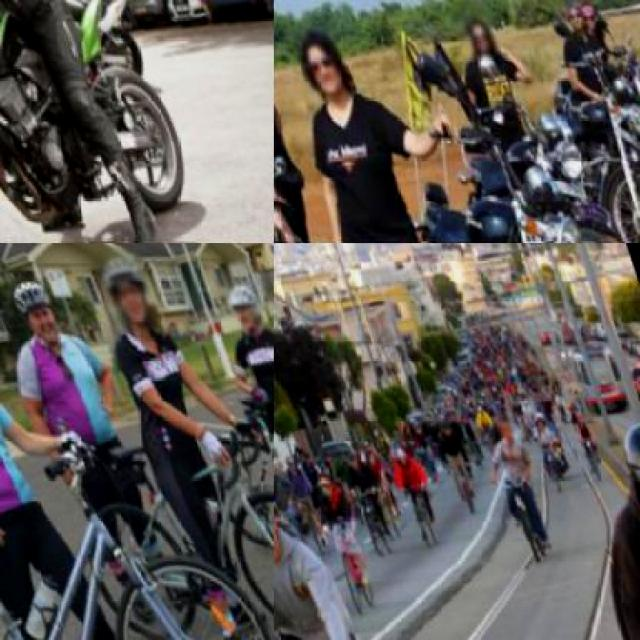With Helmet: (86, 243, 165, 337), (0, 269, 74, 357), (606, 397, 639, 521), (213, 269, 270, 333)
Without Helmet: (284, 15, 356, 104), (443, 0, 503, 60), (557, 0, 588, 28), (490, 407, 510, 433)
